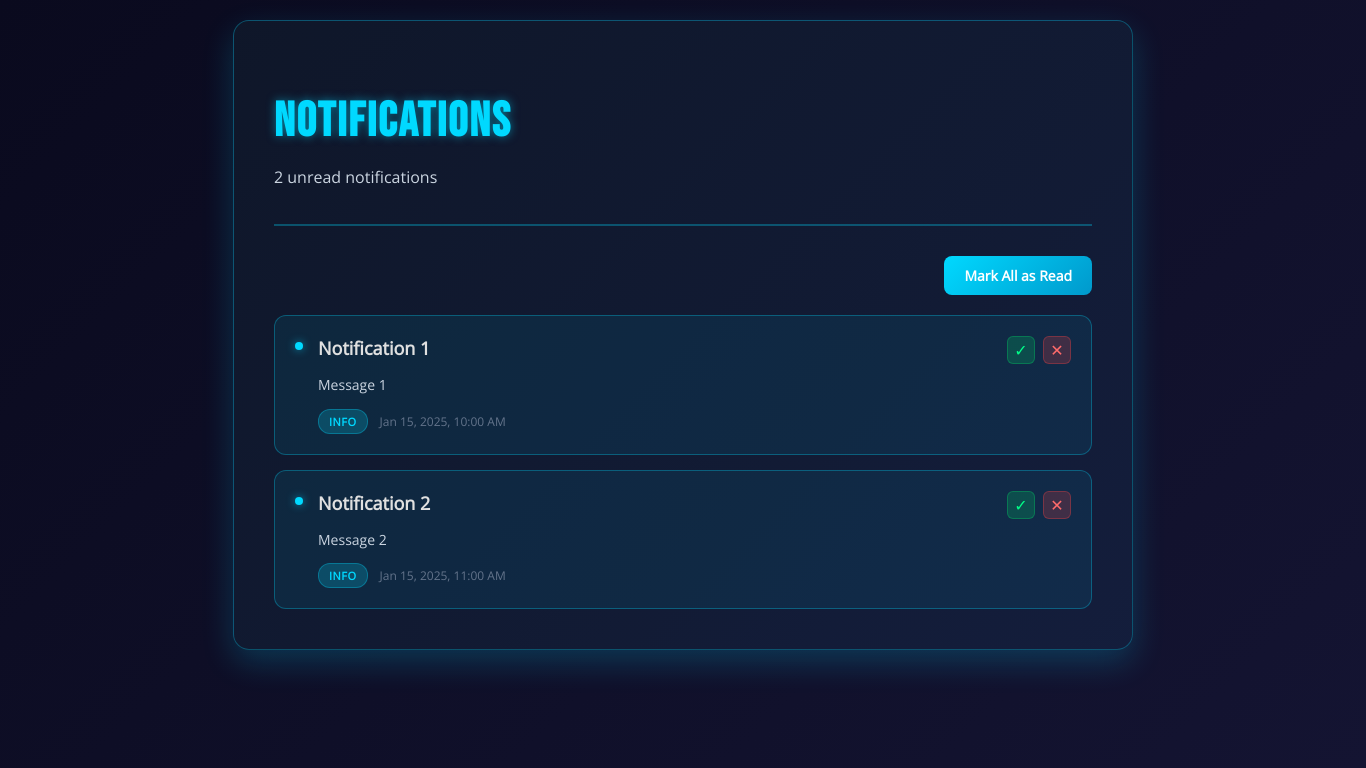
Test case: NotificationsPage › should mark all notifications as read
Click the button "Mark All as Read" at (1018, 276), box [944,256,1092,295]
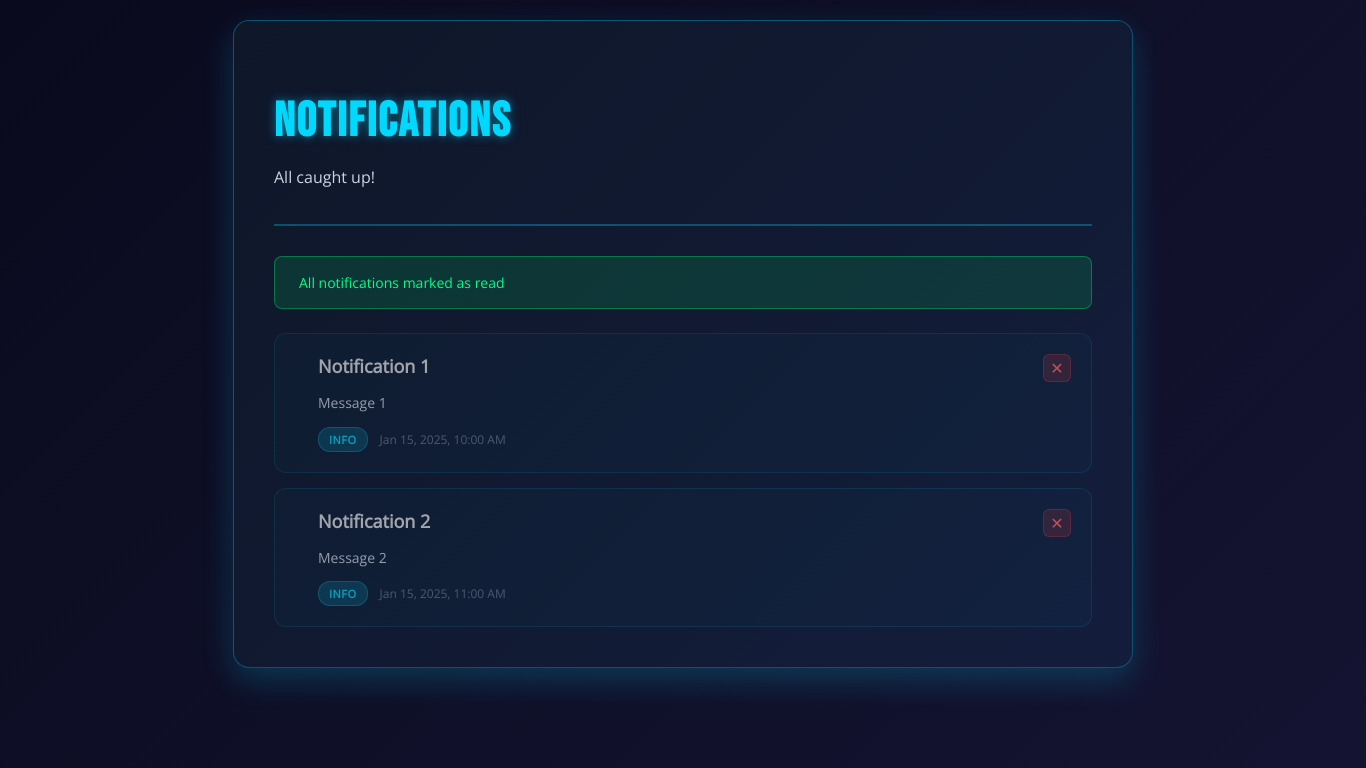
Expected: the text "All notifications marked as read" is shown, [274,256,1092,309]
